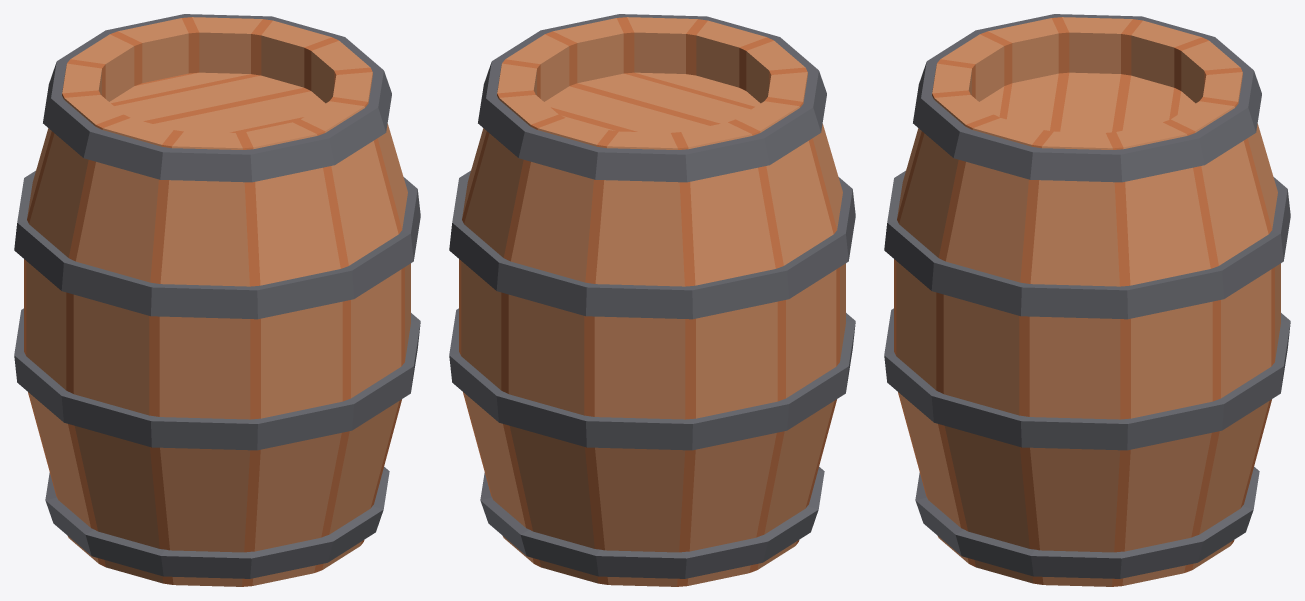
The model's file is Barrel.fbx.
3 renders of one model, left to right at view 1: azimuth 30°, elevation 25°; view 2: azimuth 150°, elevation 25°; view 3: azimuth 270°, elevation 25°, orthographic.
Parts seen in each view (by area): view 1: Barrel; view 2: Barrel; view 3: Barrel.
Boxes of the visible parts, x1,y1,x2,y2 form: Barrel: (14,14,420,586); Barrel: (449,14,855,586); Barrel: (884,14,1290,586).
Size of the model in its own units: 21.8 by 26.06 by 21.8.
